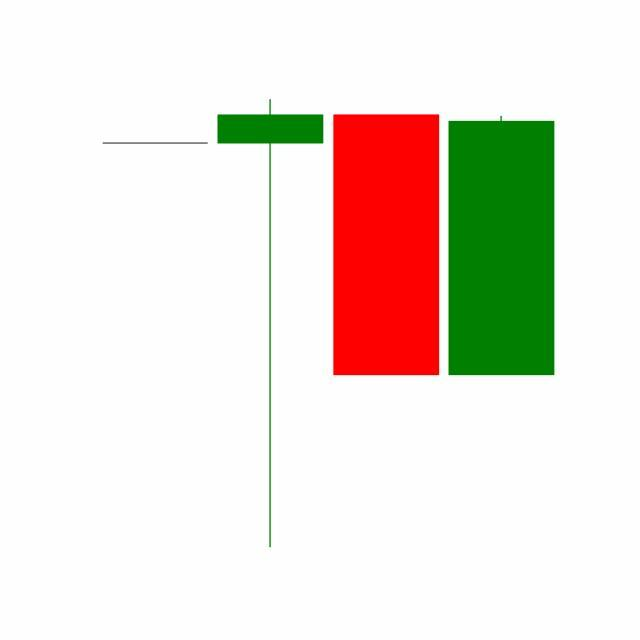Marubozu: (444, 114, 560, 379)
